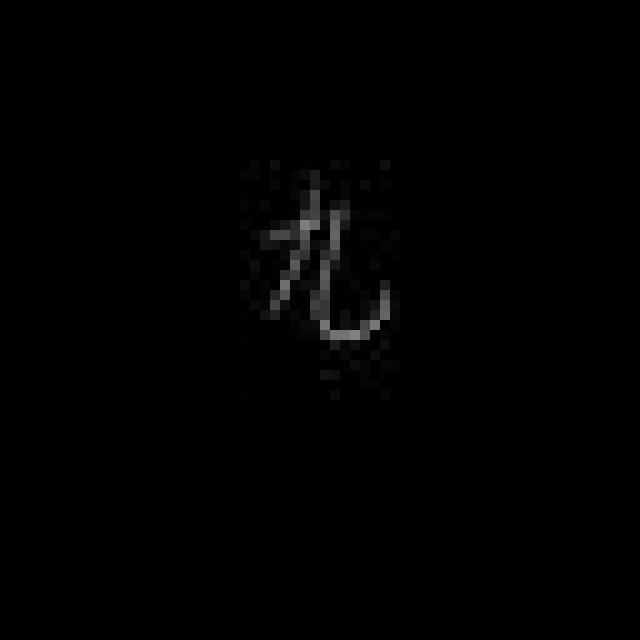9 -nine-: (259, 170, 400, 354)
